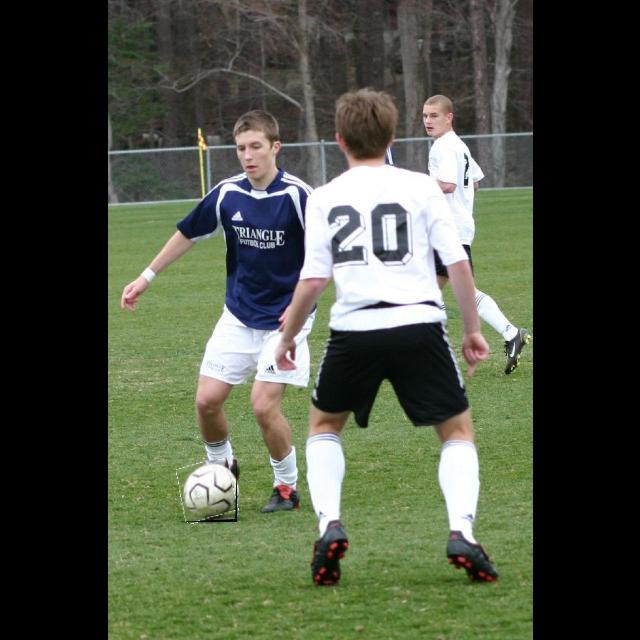Football: (179, 460, 237, 522)
